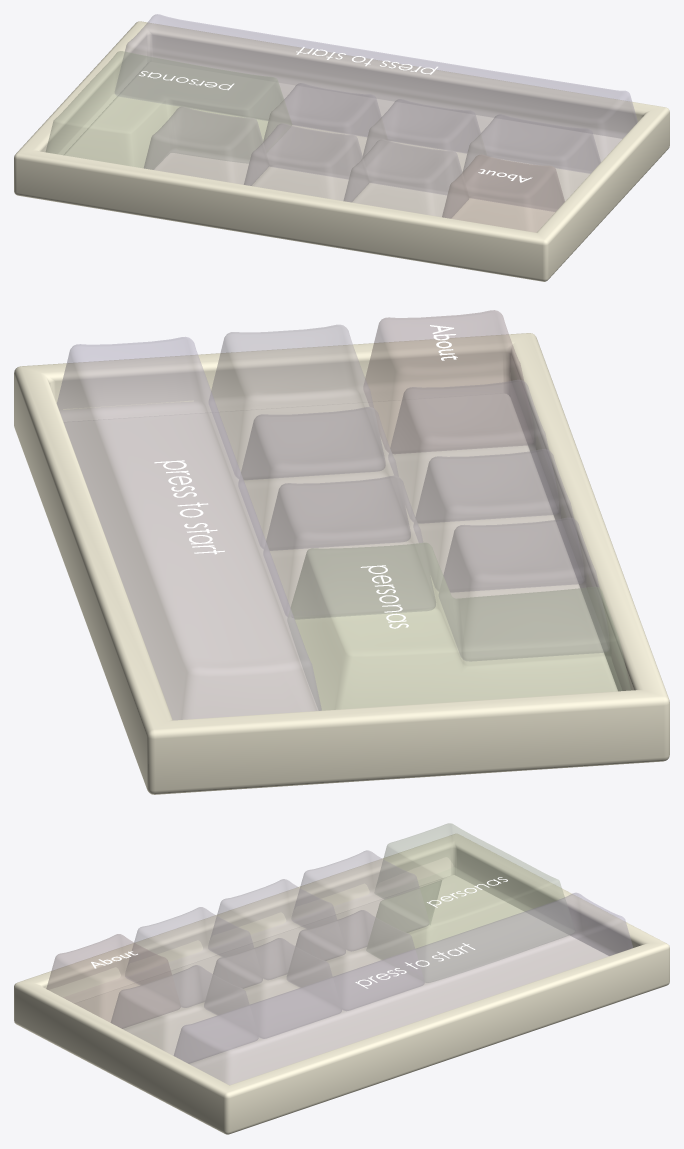
File: keebhome.glb
The picture shows the model from 3 angles, top to bottom: view 1: azimuth 30°, elevation 25°; view 2: azimuth 150°, elevation 25°; view 3: azimuth 270°, elevation 25°; orthographic projection. The views are drawn at different scales.
Parts seen in each view (by area): view 1: Board, Spacebar, Key5, Key6, Key8, Key7, Key4, Key2, Key3, Key1, Start; view 2: Board, Spacebar, Key5, Key6, Key7, Key4, Key8, Key2, Key3, Key1, Start; view 3: Board, Spacebar, Key5, Key6, Key7, Key8, Key1, Key3, Key4, Key2.
Boxes of the visible parts, x1=… form: Board: x1=14, y1=21, x2=669, y2=281; Spacebar: x1=115, y1=14, x2=637, y2=173; Key5: x1=46, y1=51, x2=291, y2=169; Key6: x1=463, y1=114, x2=600, y2=211; Key8: x1=263, y1=83, x2=387, y2=179; Key7: x1=362, y1=99, x2=486, y2=194; Key4: x1=144, y1=107, x2=268, y2=185; Key2: x1=343, y1=139, x2=468, y2=218; Key3: x1=244, y1=123, x2=369, y2=201; Key1: x1=442, y1=154, x2=564, y2=232; Start: x1=296, y1=47, x2=437, y2=74; Board: x1=14, y1=333, x2=669, y2=794; Spacebar: x1=57, y1=337, x2=321, y2=719; Key5: x1=287, y1=543, x2=630, y2=710; Key6: x1=209, y1=325, x2=385, y2=479; Key7: x1=238, y1=407, x2=410, y2=550; Key4: x1=439, y1=517, x2=608, y2=661; Key8: x1=263, y1=476, x2=435, y2=619; Key2: x1=388, y1=380, x2=558, y2=523; Key3: x1=413, y1=449, x2=583, y2=592; Key1: x1=363, y1=310, x2=533, y2=453; Start: x1=154, y1=460, x2=224, y2=554; Board: x1=14, y1=833, x2=669, y2=1134; Spacebar: x1=174, y1=893, x2=632, y2=1084; Key5: x1=366, y1=823, x2=574, y2=982; Key6: x1=111, y1=965, x2=258, y2=1063; Key7: x1=204, y1=938, x2=341, y2=1038; Key8: x1=287, y1=910, x2=424, y2=1010; Key1: x1=46, y1=934, x2=180, y2=1028; Key3: x1=208, y1=879, x2=345, y2=979; Key4: x1=292, y1=850, x2=428, y2=951; Key2: x1=125, y1=907, x2=262, y2=1007.
Size of the model in its own units: 5.44 by 0.6885 by 5.74.
